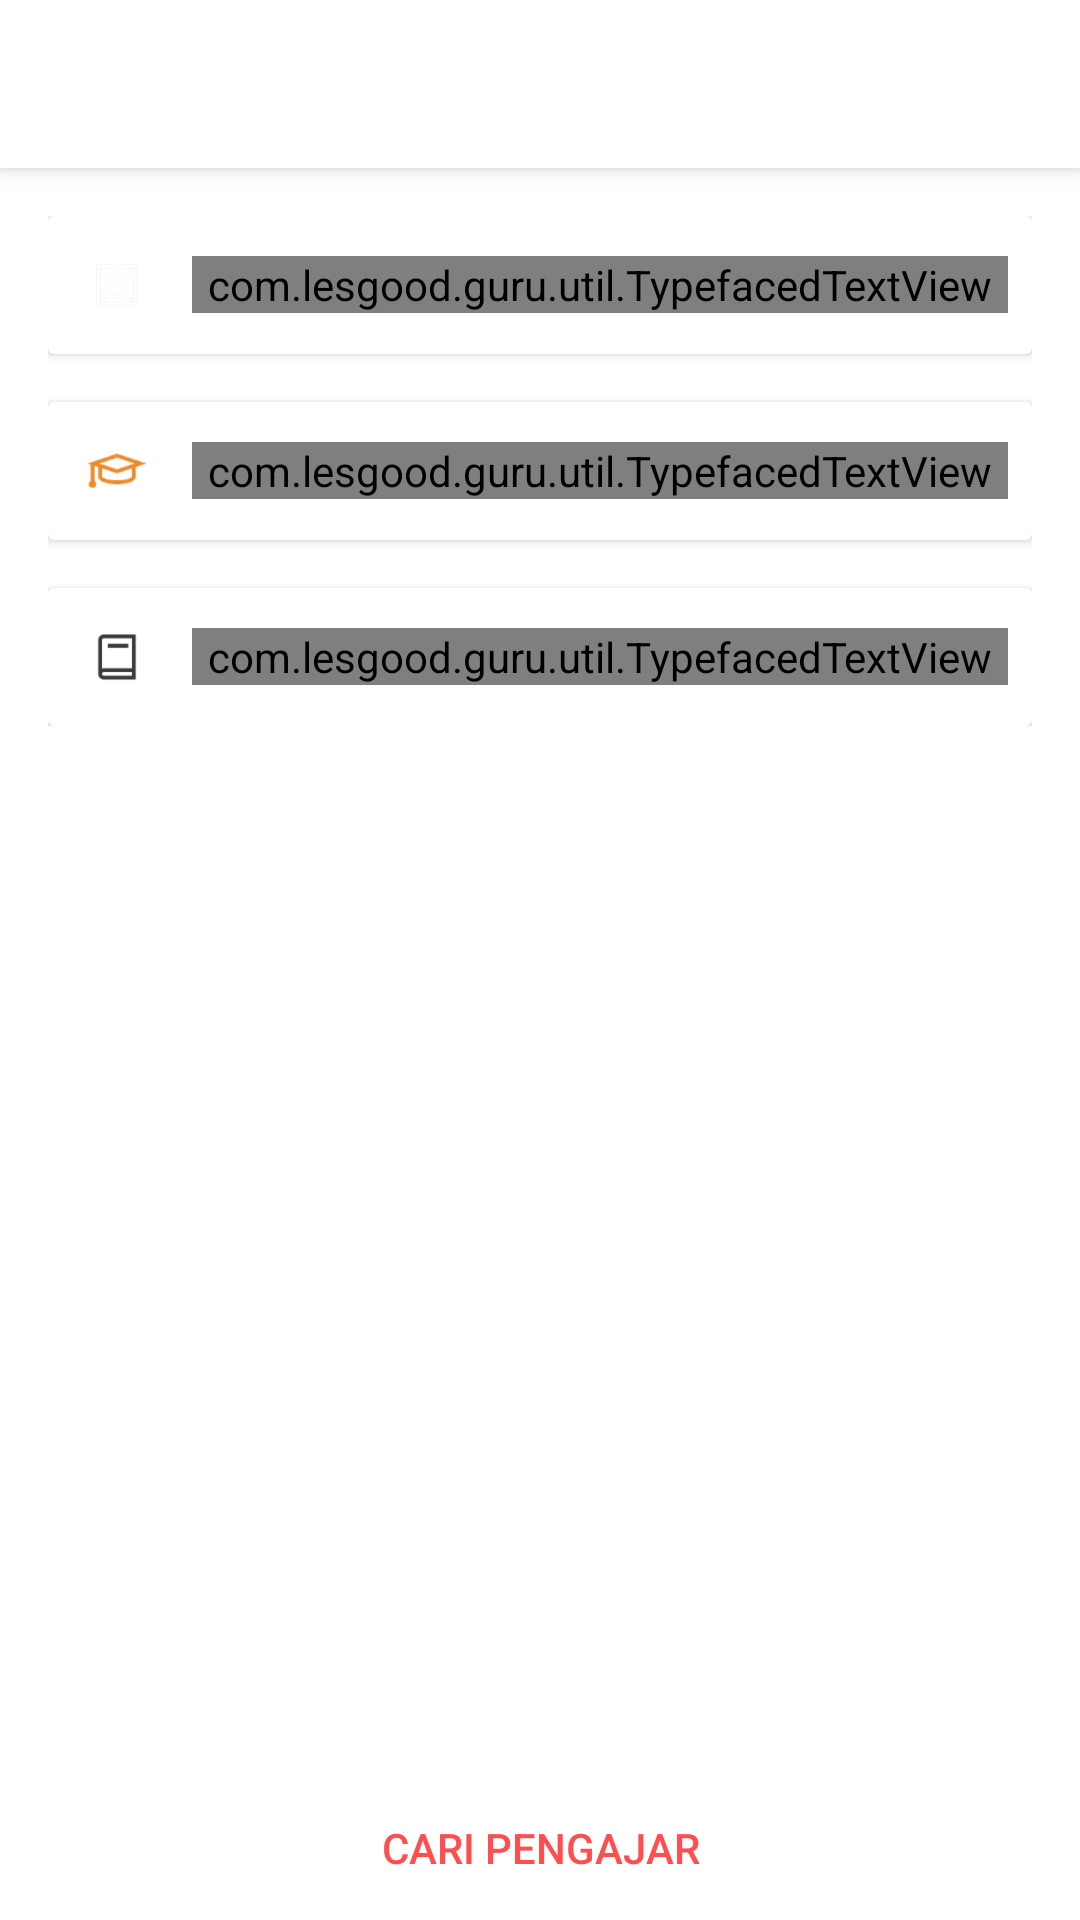

Named icons in this screenshot (1080w x 1920h) and their centers, (x,y):
book: (117,657)
student male: (117,470)
